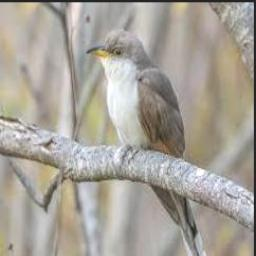Cuckoo: (85, 30, 212, 256)
